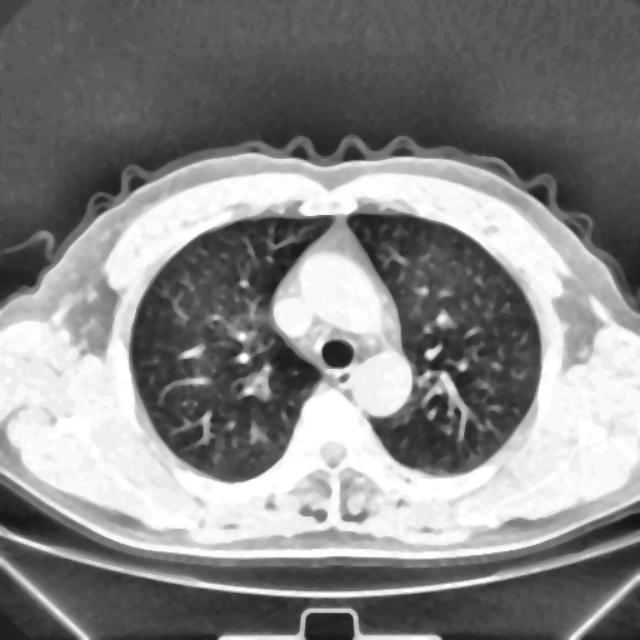covid: (0, 134, 639, 569)
